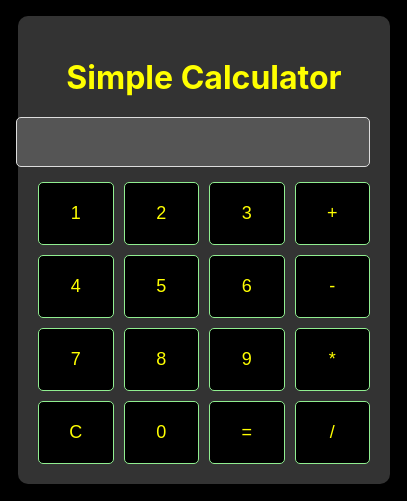
it: displays numbers when buttons are clicked
Click the button "1": coordinates (76, 213) x1=38 y1=182 x2=114 y2=245
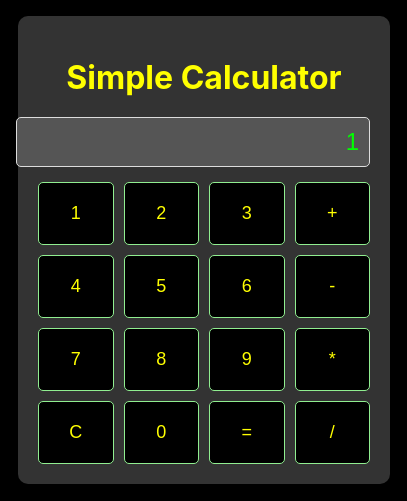
Click the button "2": coordinates (161, 213) x1=124 y1=182 x2=199 y2=245
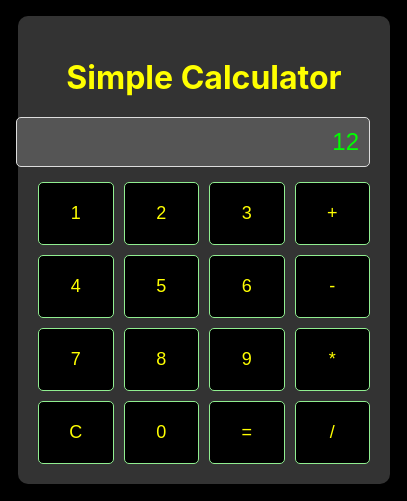
Now the field holds "12", box x1=16 y1=117 x2=370 y2=167
